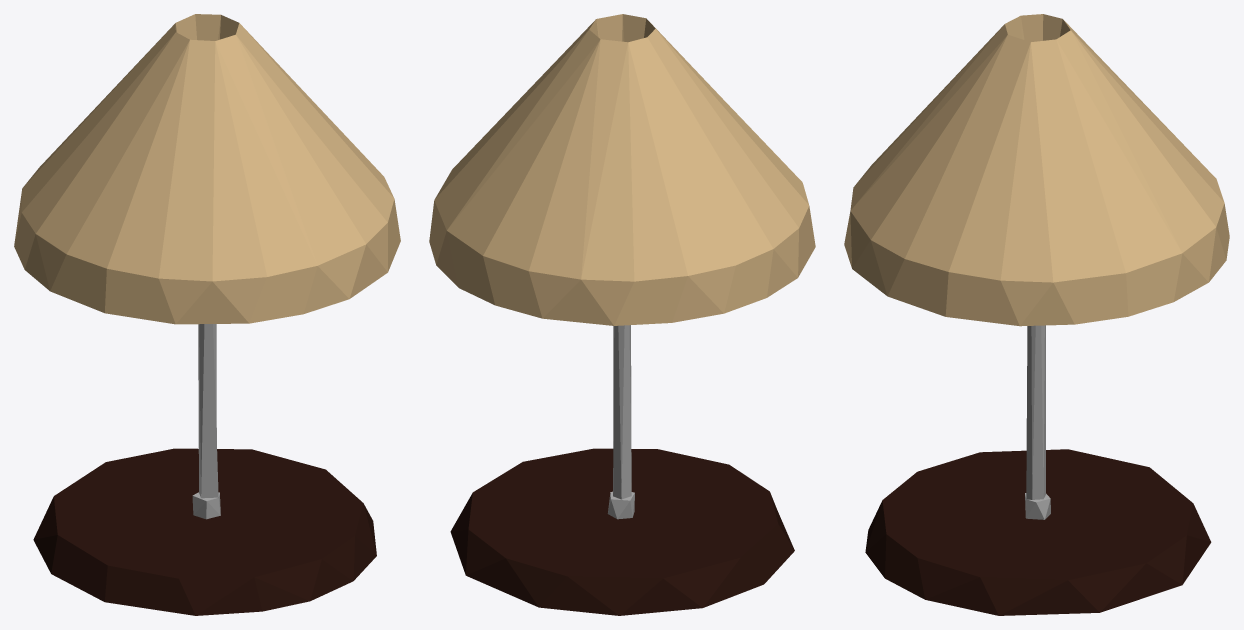
Rendered from lamp.glb.
3 views of the same model, side by side, from view 1: azimuth 30°, elevation 25°; view 2: azimuth 150°, elevation 25°; view 3: azimuth 270°, elevation 25° (orthographic).
Parts seen in each view (by area): view 1: Cylinder; view 2: Cylinder; view 3: Cylinder.
Boxes of the visible parts, x1,y1,x2,y2 form: Cylinder: (14, 14, 400, 615); Cylinder: (429, 14, 815, 615); Cylinder: (844, 14, 1229, 615).
Bounding box in the file's own units: 1.12 × 1.65 × 1.12.
